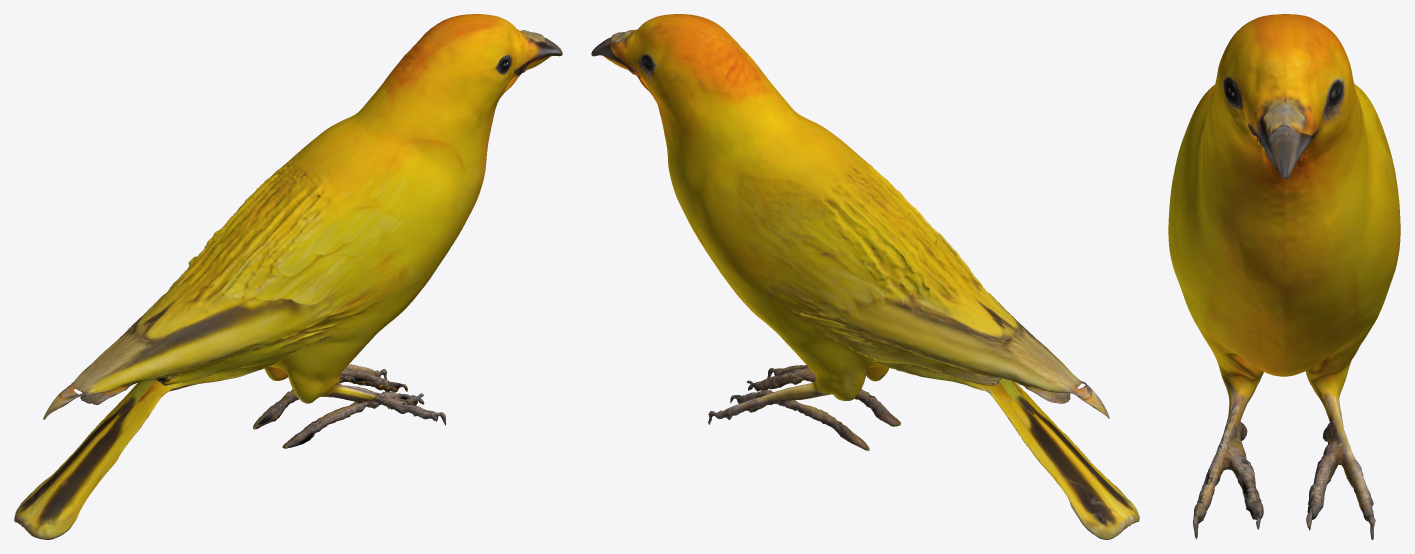
File: canario.glb
3 renders of one model, left to right at view 1: azimuth 30°, elevation 25°; view 2: azimuth 150°, elevation 25°; view 3: azimuth 270°, elevation 25°, orthographic. The views are drawn at different scales.
Bounding box in the file's own units: 2 × 1.42 × 0.4978.
Materials: 1 (1 with a texture image).
